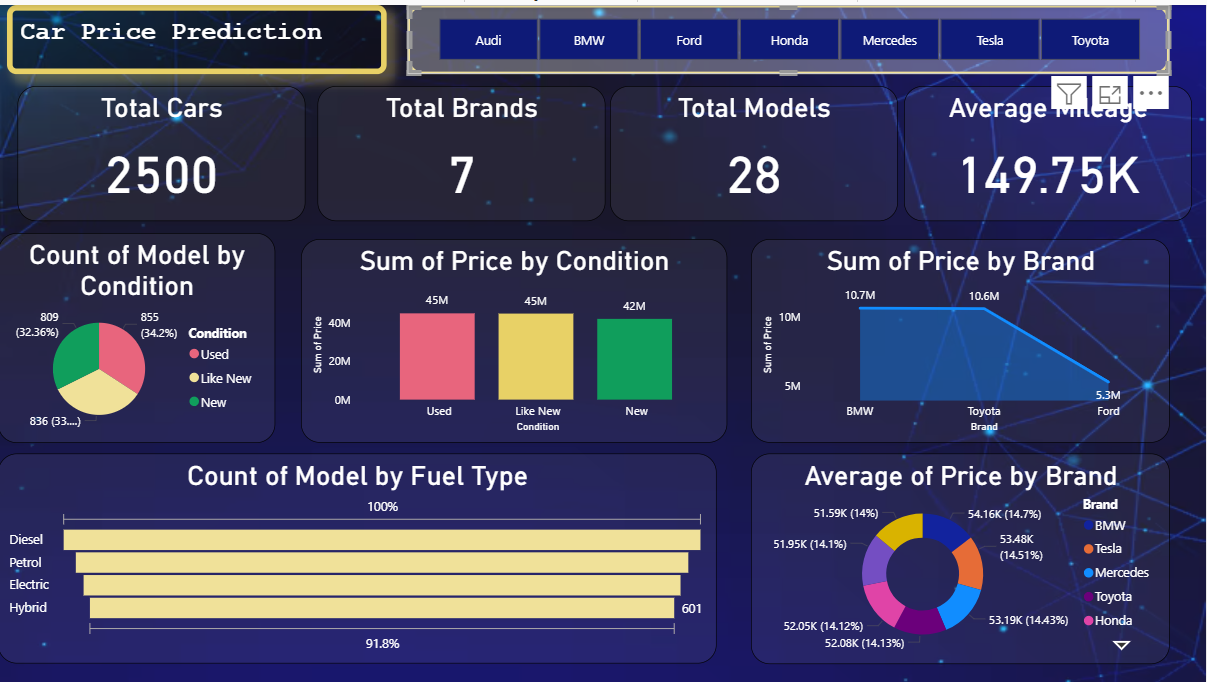

The page's visual inventory and layout, read from the dashboard file:
{"tool":"powerbi","page":{"name":"Page 1","canvas":[1280,720],"ordinal":0},"visuals":[{"type":"textbox","box":[9.5,0,402.4,73.2],"z":0},{"type":"card","title":"Total Cars ","fields":{"Values":["CountNonNull(car_price_prediction_.Model)"]},"box":[20.7,85.9,305,143.2],"z":1000},{"type":"card","title":"Total Models ","fields":{"Values":["Count(car_price_prediction_.Model)"]},"box":[649,85.9,305,143.2],"z":2000},{"type":"card","title":"Total Brands ","fields":{"Values":["Count(car_price_prediction_.Brand)"]},"box":[338.8,85.9,305,143.2],"z":3000},{"type":"card","title":"Average Mileage","fields":{"Values":["Avg(car_price_prediction_.Mileage)"]},"box":[960.7,85.9,305,143.2],"z":4000},{"type":"pieChart","fields":{"Category":["car_price_prediction_.Condition"],"Y":["CountNonNull(car_price_prediction_.Model)"]},"box":[0,241.8,294.3,222.7],"z":5000},{"type":"clusteredColumnChart","fields":{"Category":["car_price_prediction_.Condition"],"Y":["Sum(car_price_prediction_.Price)"]},"box":[321.3,248.1,451.7,216.3],"z":6000},{"type":"areaChart","fields":{"Category":["car_price_prediction_.Brand"],"Y":["Sum(car_price_prediction_.Price)"]},"box":[798.5,248.1,443.8,216.3],"z":7000},{"type":"funnel","fields":{"Category":["car_price_prediction_.Fuel Type"],"Y":["CountNonNull(car_price_prediction_.Model)"]},"box":[0,475.6,761.9,222.7],"z":7001},{"type":"donutChart","fields":{"Category":["car_price_prediction_.Brand"],"Y":["Avg(car_price_prediction_.Price)"]},"box":[798,476,444,223],"z":7002},{"type":"slicer","fields":{"Values":["car_price_prediction_.Brand"]},"box":[434.2,0,808,73.2],"z":7003}]}

Visuals, with their boxes in screenshot pixels (x1, y1, x2, y2), scaled from the page's 1280x720 canvas onto the 1207x682 screenshot:
textbox: crop(9, 0, 388, 69)
"Total Cars " card: crop(20, 81, 307, 217)
"Total Models " card: crop(612, 81, 900, 217)
"Total Brands " card: crop(319, 81, 607, 217)
"Average Mileage" card: crop(906, 81, 1194, 217)
pieChart - car_price_prediction_.Condition x CountNonNull(car_price_prediction_.Model): crop(0, 229, 278, 440)
clusteredColumnChart - car_price_prediction_.Condition x Sum(car_price_prediction_.Price): crop(303, 235, 729, 440)
areaChart - car_price_prediction_.Brand x Sum(car_price_prediction_.Price): crop(753, 235, 1171, 440)
funnel - car_price_prediction_.Fuel Type x CountNonNull(car_price_prediction_.Model): crop(0, 450, 718, 661)
donutChart - car_price_prediction_.Brand x Avg(car_price_prediction_.Price): crop(752, 451, 1171, 662)
slicer - car_price_prediction_.Brand: crop(409, 0, 1171, 69)
